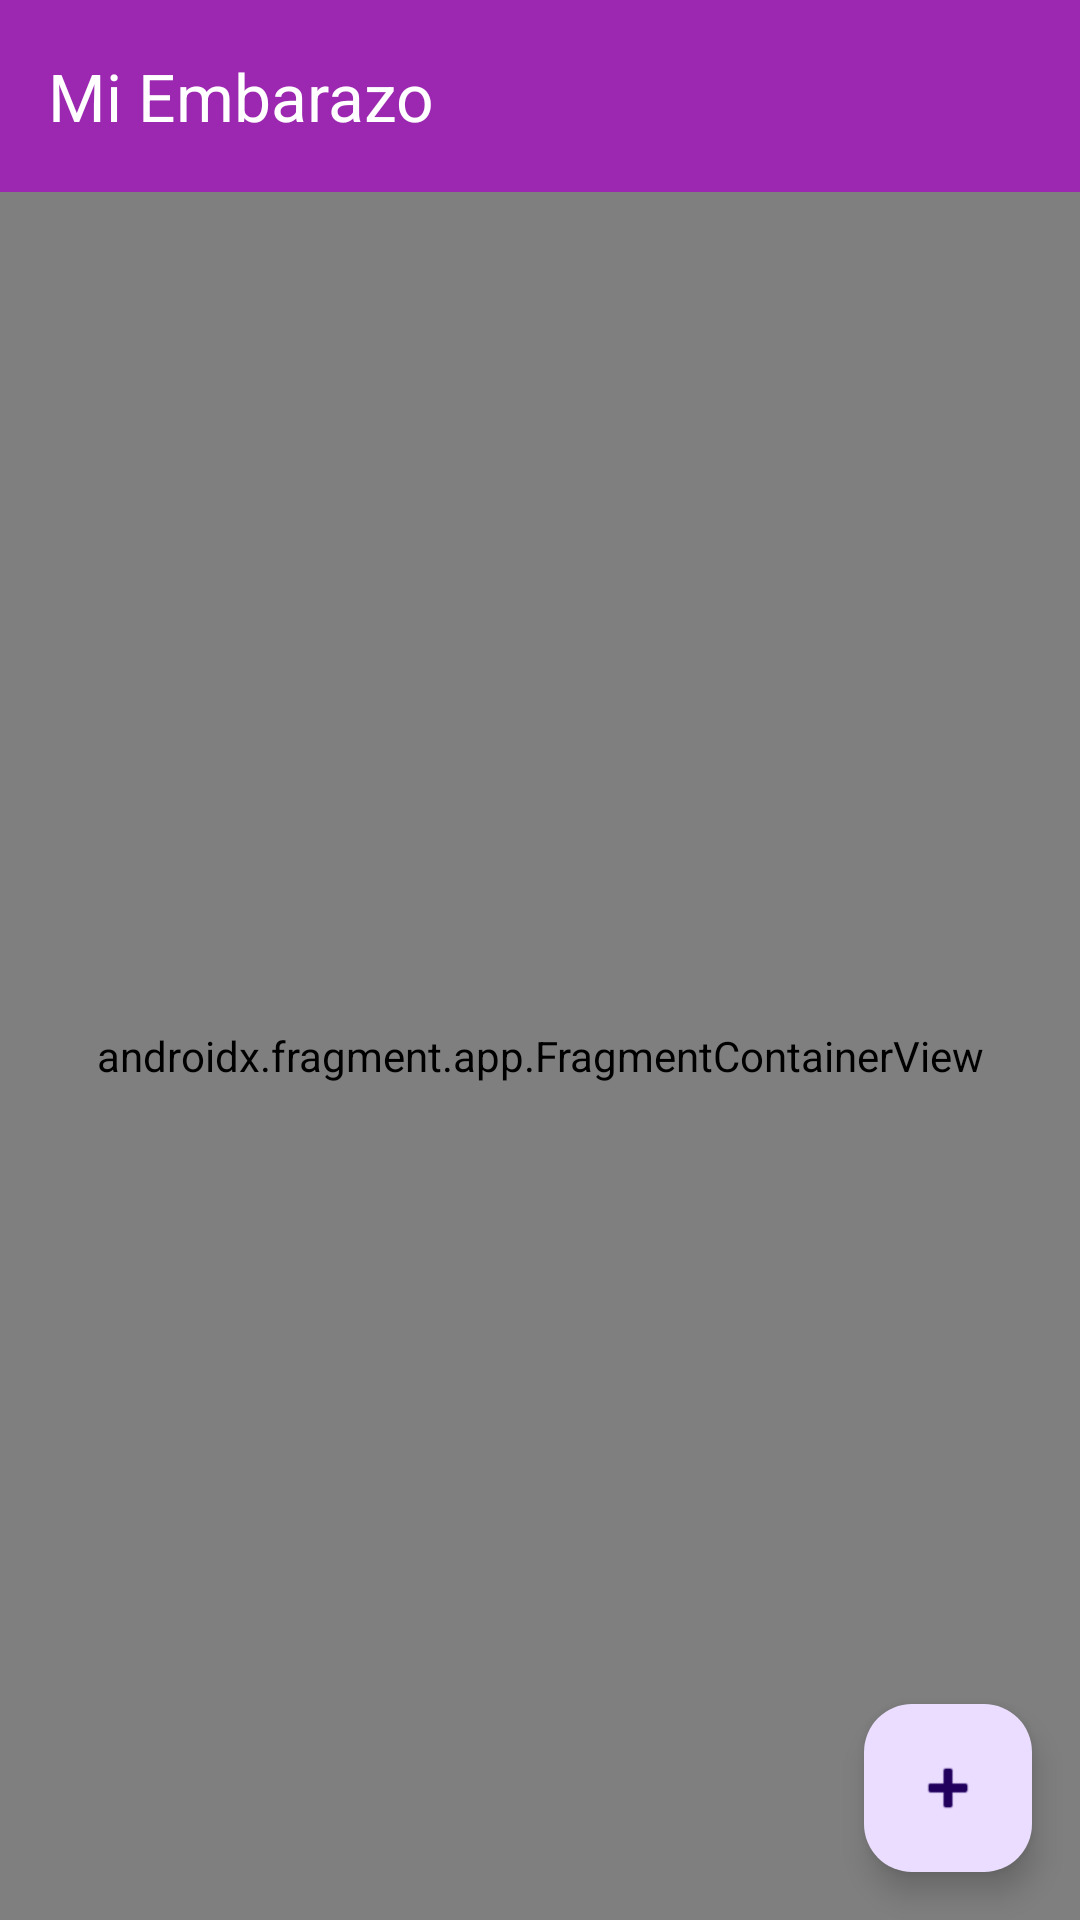

Where icons sit on this 1080px x 1920px app screen, as (x1, y1, x2, y2):
Acción: (864, 1704, 1032, 1872)
